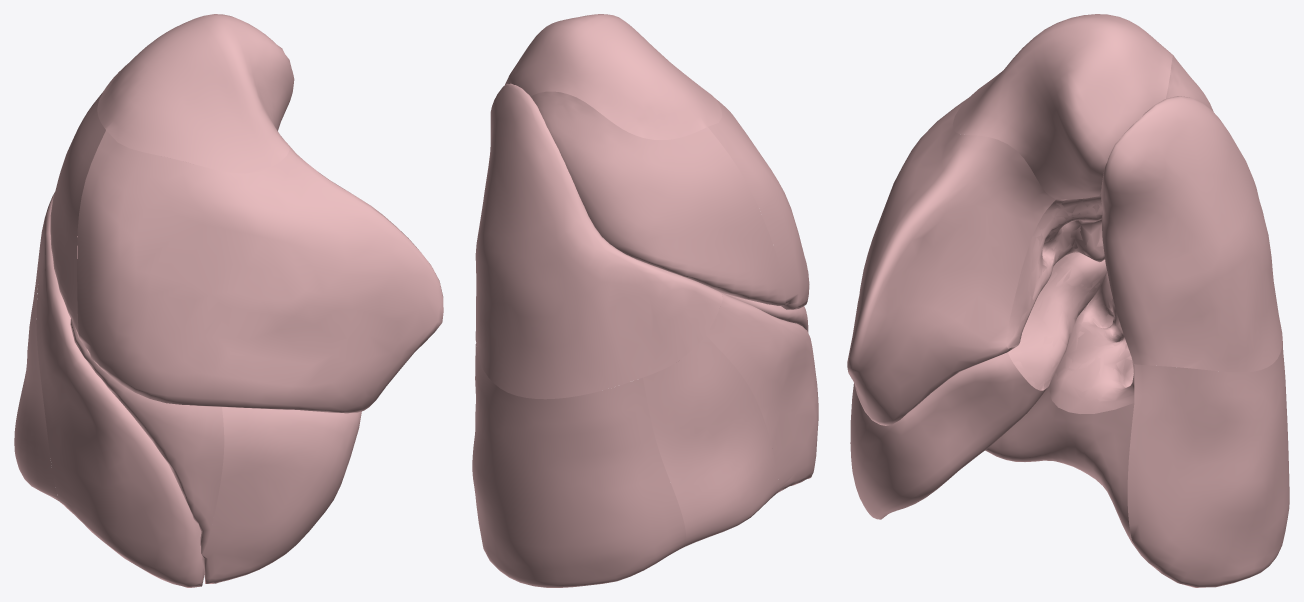
The model's file is right-lung.glb.
3 renders of one model, left to right at view 1: azimuth 30°, elevation 25°; view 2: azimuth 150°, elevation 25°; view 3: azimuth 270°, elevation 25°, orthographic. The views are drawn at different scales.
Visible parts, largest first — view 1: VH_F_right_anterior_bronchopulmonary_segm, VH_F_right_anterior_basal_bronchopulmonary_segment, VH_F_right_apical_bronchopulmonary_segment, VH_F_right_medial_bronchopulmonary_segment, VH_F_right_lateral_bronchopulmonary_segmennt, VH_F_right_posterior_bronchopulmonary_segment, VH_F_right_lateral_basal_bronchopulmonary_segment, VH_F_right_superior_bronchopulmonary_segment; view 2: VH_F_right_superior_bronchopulmonary_segment, VH_F_right_posterior_basal_bronchopulmonary_segment, VH_F_right_posterior_bronchopulmonary_segment, VH_F_right_lateral_basal_bronchopulmonary_segment, VH_F_right_apical_bronchopulmonary_segment, VH_F_right_anterior_basal_bronchopulmonary_segment, VH_F_right_anterior_bronchopulmonary_segm, VH_F_right_lateral_bronchopulmonary_segmennt; view 3: VH_F_right_superior_bronchopulmonary_segment, VH_F_right_anterior_bronchopulmonary_segm, VH_F_right_posterior_basal_bronchopulmonary_segment, VH_F_right_apical_bronchopulmonary_segment, VH_F_right_medial_bronchopulmonary_segment, VH_F_hilum_R, VH_F_right_medial_basal_bronchopulmonary_segment, VH_F_hilum_lower_R, VH_F_hilum_middle_R, VH_F_hilum_upper_R, VH_F_right_posterior_bronchopulmonary_segment.
Boxes of the visible parts, bbox=[...] form: VH_F_right_anterior_bronchopulmonary_segm: bbox=[77, 130, 443, 413]; VH_F_right_anterior_basal_bronchopulmonary_segment: bbox=[36, 263, 204, 587]; VH_F_right_apical_bronchopulmonary_segment: bbox=[97, 14, 294, 173]; VH_F_right_medial_bronchopulmonary_segment: bbox=[202, 407, 361, 583]; VH_F_right_lateral_bronchopulmonary_segmennt: bbox=[70, 319, 224, 553]; VH_F_right_posterior_bronchopulmonary_segment: bbox=[50, 91, 105, 337]; VH_F_right_lateral_basal_bronchopulmonary_segment: bbox=[14, 283, 60, 502]; VH_F_right_superior_bronchopulmonary_segment: bbox=[35, 192, 77, 284]; VH_F_right_superior_bronchopulmonary_segment: bbox=[475, 83, 722, 399]; VH_F_right_posterior_basal_bronchopulmonary_segment: bbox=[472, 338, 686, 587]; VH_F_right_posterior_bronchopulmonary_segment: bbox=[531, 91, 785, 305]; VH_F_right_lateral_basal_bronchopulmonary_segment: bbox=[643, 336, 778, 547]; VH_F_right_apical_bronchopulmonary_segment: bbox=[505, 14, 721, 139]; VH_F_right_anterior_basal_bronchopulmonary_segment: bbox=[706, 292, 818, 492]; VH_F_right_anterior_bronchopulmonary_segm: bbox=[708, 98, 809, 309]; VH_F_right_lateral_bronchopulmonary_segmennt: bbox=[722, 293, 808, 332]; VH_F_right_superior_bronchopulmonary_segment: bbox=[1101, 96, 1282, 372]; VH_F_right_anterior_bronchopulmonary_segm: bbox=[847, 98, 1055, 425]; VH_F_right_posterior_basal_bronchopulmonary_segment: bbox=[1127, 341, 1289, 587]; VH_F_right_apical_bronchopulmonary_segment: bbox=[952, 14, 1173, 199]; VH_F_right_medial_bronchopulmonary_segment: bbox=[850, 352, 1046, 519]; VH_F_hilum_R: bbox=[1007, 195, 1134, 400]; VH_F_right_medial_basal_bronchopulmonary_segment: bbox=[985, 383, 1139, 553]; VH_F_hilum_lower_R: bbox=[1049, 268, 1134, 413]; VH_F_hilum_middle_R: bbox=[1008, 252, 1106, 390]; VH_F_hilum_upper_R: bbox=[1006, 197, 1104, 348]; VH_F_right_posterior_bronchopulmonary_segment: bbox=[1099, 55, 1213, 195].
Bounding box in the file's own units: 0.4181 × 0.6546 × 0.48.
